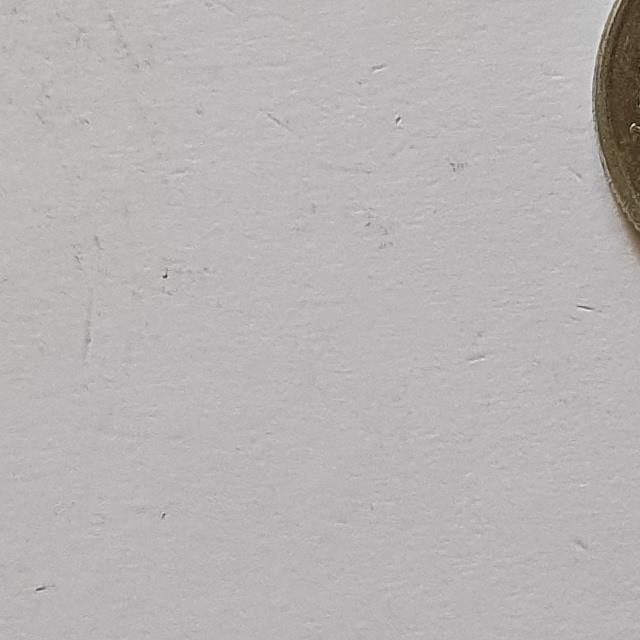1 Bath: (597, 1, 640, 275)
